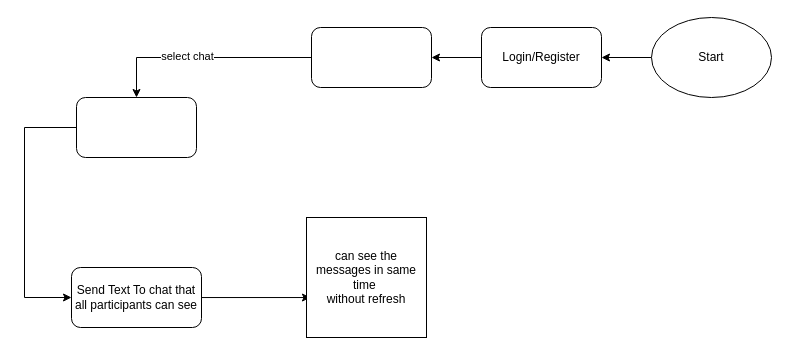
The diagram is 789 pixels wide and 363 high, and some of its shapes have lost their labels. Here are the shapes that lost their labels. From the top down, the centre of each, then its label:
At point 371,57: "index page of chats".
At point 136,127: "chat page".
